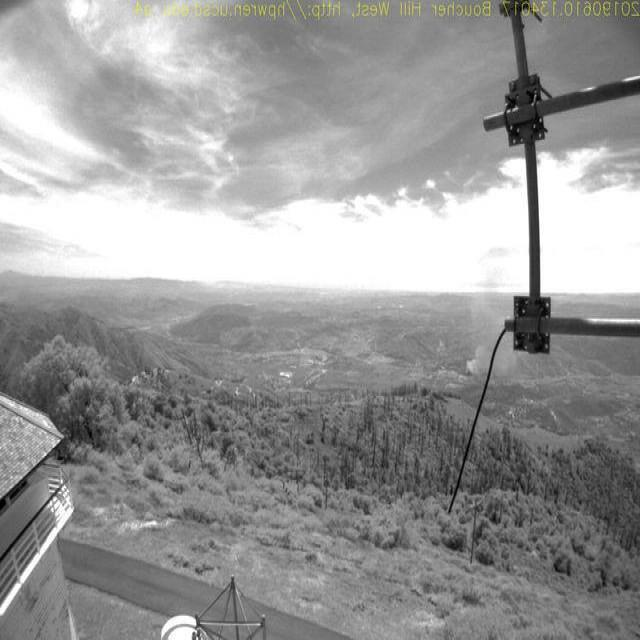smoke: (463, 255, 521, 380)
